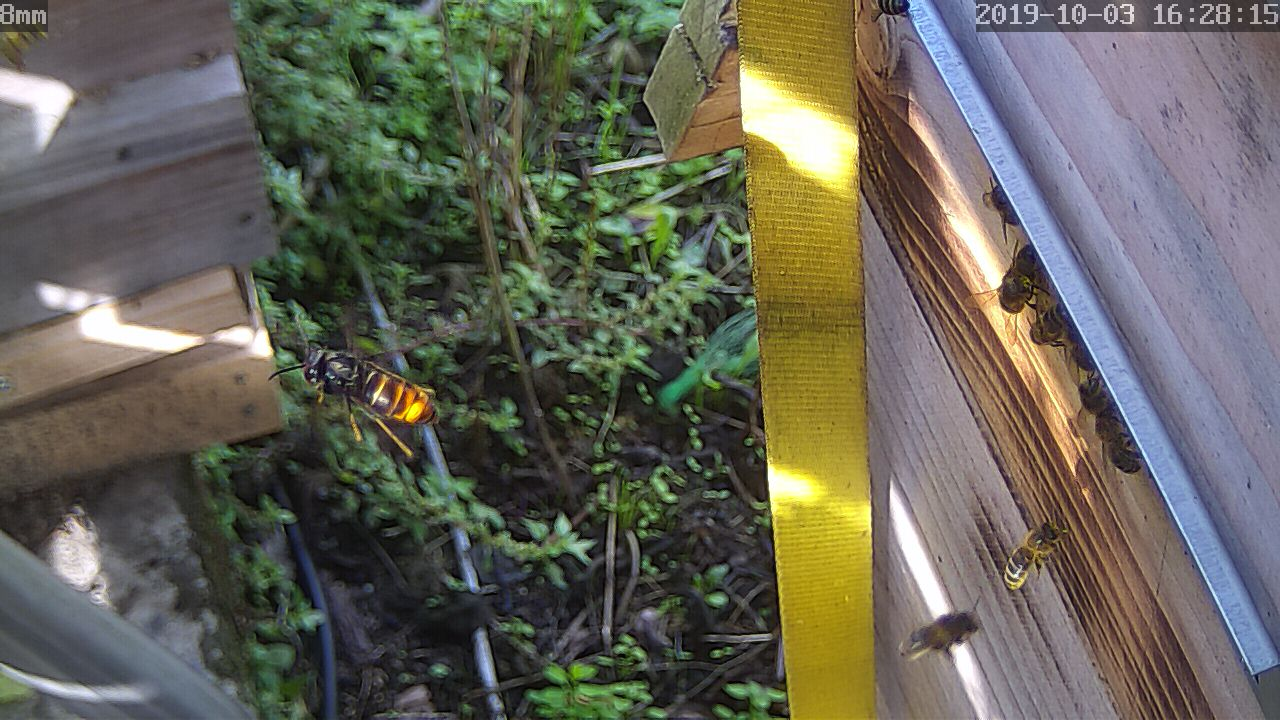bee: (985, 240, 1054, 320), (1004, 511, 1053, 574)
hornet: (290, 343, 424, 426)
